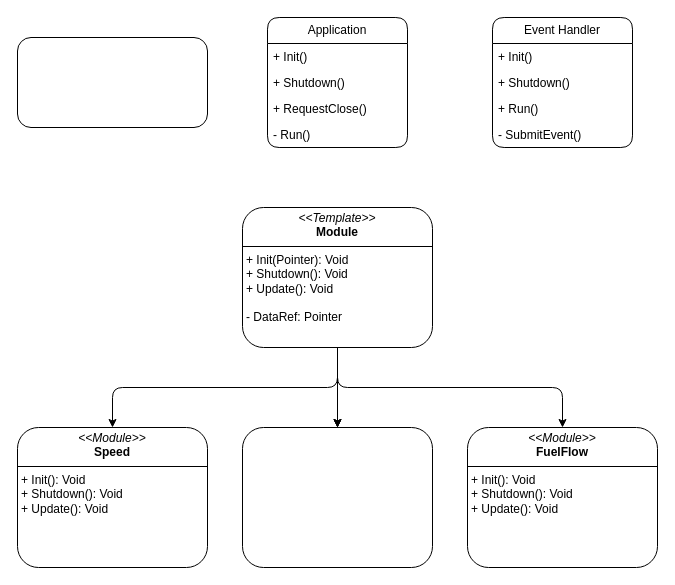
This 675x585 diagram has some shape labels left out. The centre of each missing label's shape, as x and y in pixels:
"<<Module>> Gear + Init(): Void + Shutdown(): Void + Update(): Void" belongs at (x=337, y=497).
"GlobalData:Struct EventQueue (Per Module Type?) EventFunctionsList GUI Data" belongs at (x=112, y=82).
